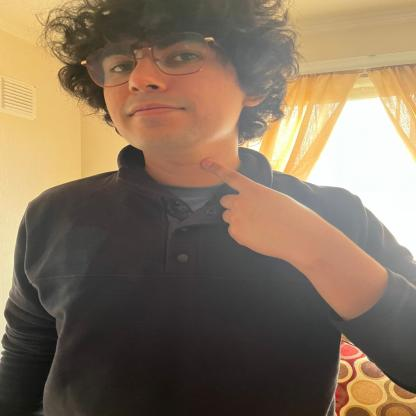Q: (173, 145, 337, 274)
